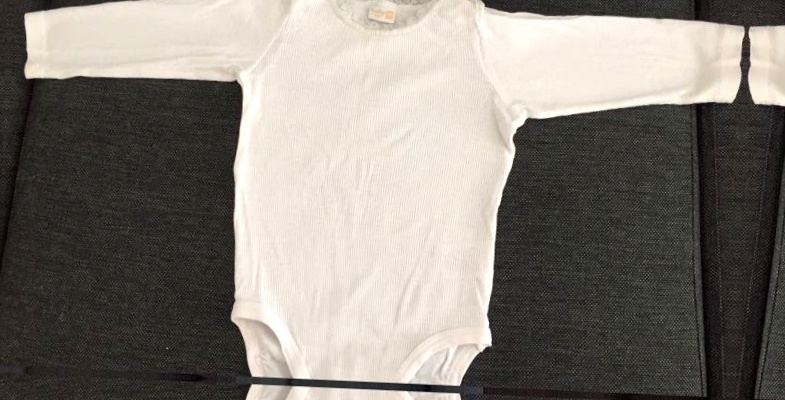Body: (3, 0, 736, 397), (0, 375, 718, 400), (743, 3, 785, 400), (0, 0, 4, 364), (761, 0, 785, 27)
